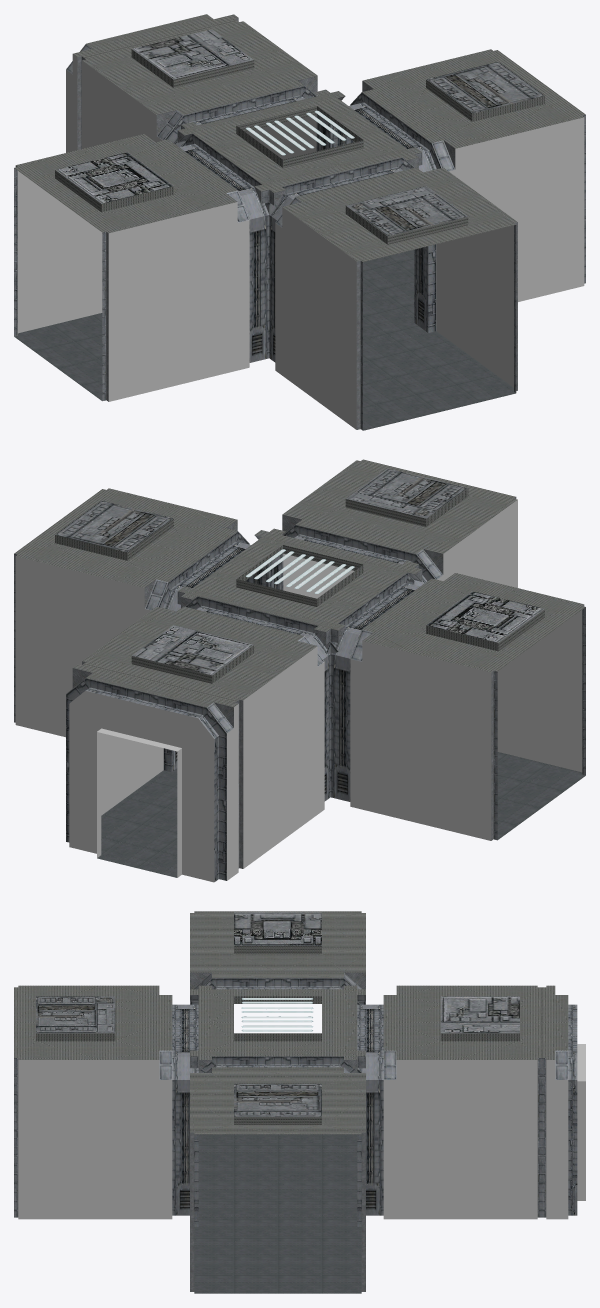
The model's file is poi_all_impl_bunker_small_outpost_s01_r13_storage_hub_mesh.fbx.
3 renders of one model, top to bottom at view 1: azimuth 30°, elevation 25°; view 2: azimuth 150°, elevation 25°; view 3: azimuth 270°, elevation 25°, orthographic. The views are drawn at different scales.
Parts seen in each view (by area): view 1: mesh_node; view 2: mesh_node; view 3: mesh_node.
Part boxes in pixels (<box>): mesh_node: <box>14,14,585,430</box>; mesh_node: <box>14,459,585,882</box>; mesh_node: <box>14,911,585,1293</box>.
Size of the model in its own units: 12 by 4.2 by 13.
